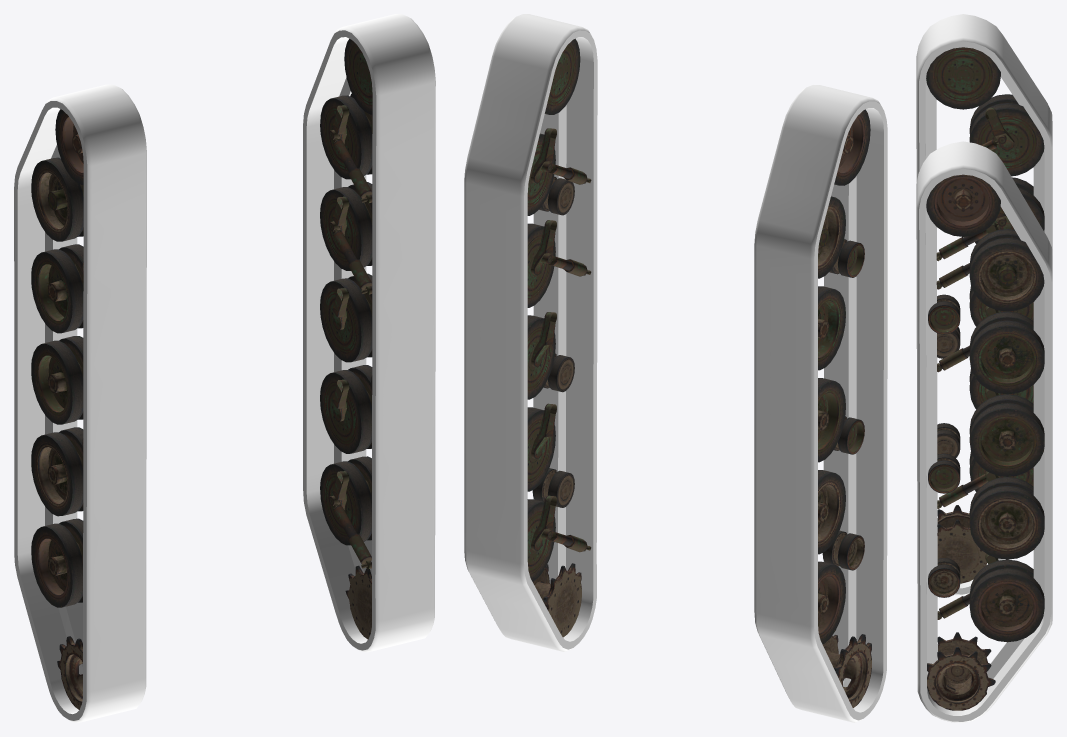
File: Chassis_01.glb
The picture shows the model from 3 angles, left to right: view 1: azimuth 30°, elevation 25°; view 2: azimuth 150°, elevation 25°; view 3: azimuth 270°, elevation 25°; orthographic projection. The views are drawn at different scales.
Parts seen in each view (by area): view 1: set_1_group_0, set_0_group_0, set_3_group_0, set_2_group_0; view 2: set_1_group_0, set_0_group_0, set_3_group_0, set_2_group_0; view 3: set_3_group_0, set_0_group_0, set_2_group_0, set_1_group_0.
Boxes of the visible parts, x1=… form: set_1_group_0: x1=14, y1=84, x2=146, y2=722; set_0_group_0: x1=303, y1=14, x2=435, y2=652; set_3_group_0: x1=320, y1=39, x2=372, y2=639; set_2_group_0: x1=31, y1=109, x2=83, y2=709; set_1_group_0: x1=754, y1=85, x2=887, y2=722; set_0_group_0: x1=464, y1=14, x2=597, y2=651; set_3_group_0: x1=527, y1=38, x2=591, y2=637; set_2_group_0: x1=818, y1=109, x2=871, y2=707; set_3_group_0: x1=926, y1=174, x2=1044, y2=710; set_0_group_0: x1=916, y1=141, x2=1052, y2=722; set_2_group_0: x1=926, y1=47, x2=1044, y2=583; set_1_group_0: x1=916, y1=14, x2=1052, y2=595.
Size of the model in its own units: 2.82 by 4.77 by 1.06.
4 materials, 2 textured.
